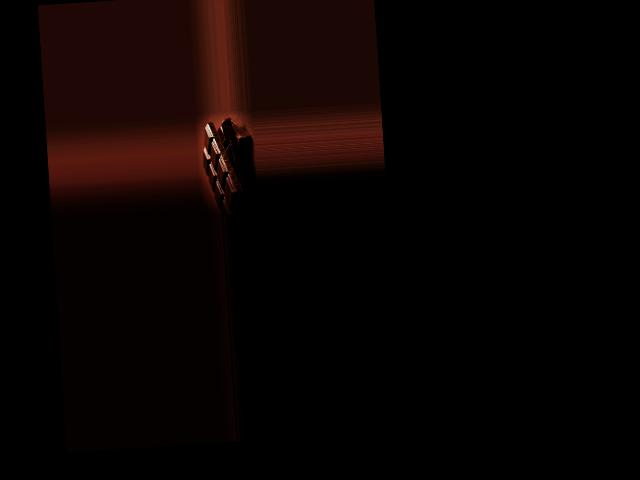chocolate: (201, 117, 249, 213)
